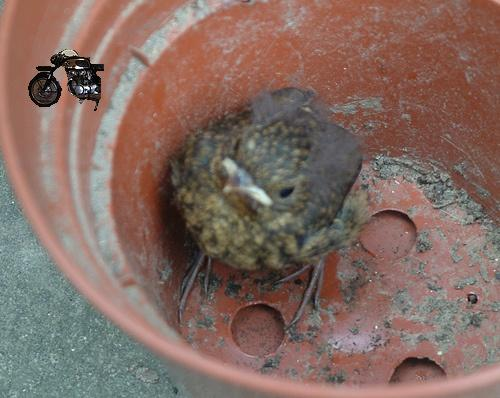tampered: (29, 50, 104, 111)
